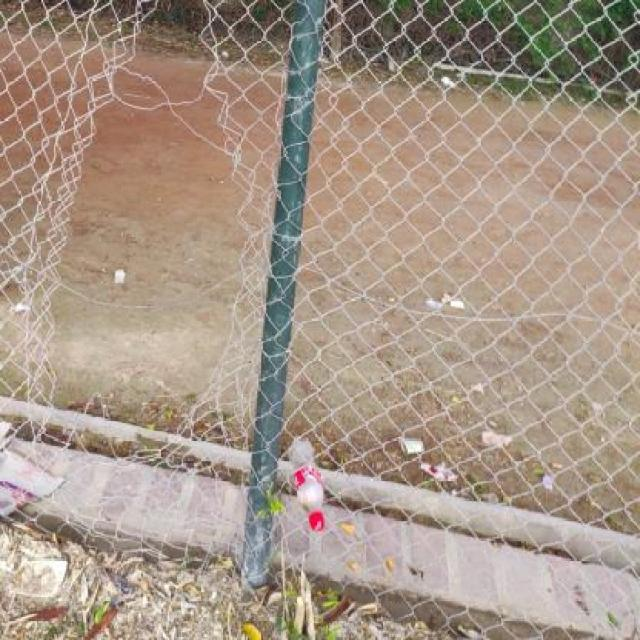fence line: (46, 10, 245, 482)
